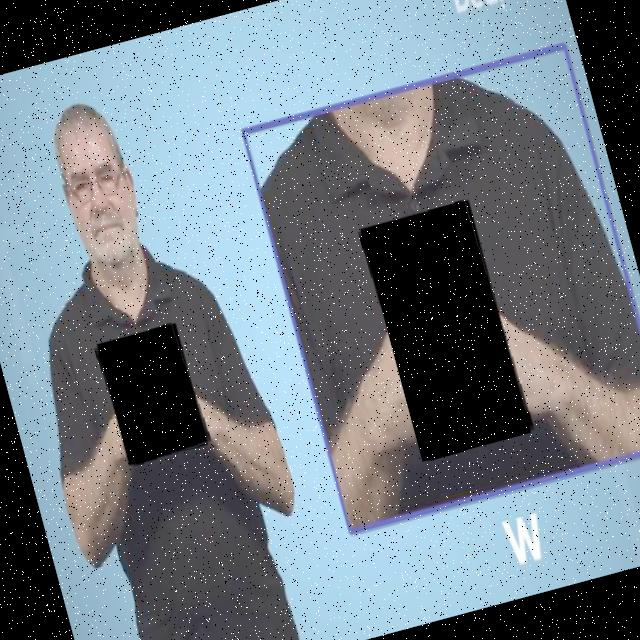W: (360, 199, 535, 464), (96, 323, 212, 469)
